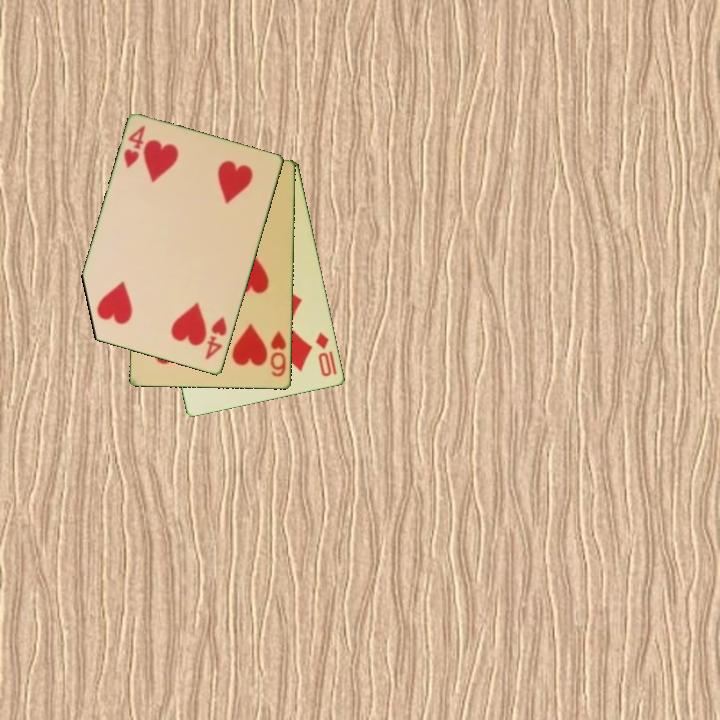10d: (312, 329, 340, 380)
4h: (202, 313, 230, 363), (120, 122, 148, 171)
6h: (267, 327, 289, 380)
